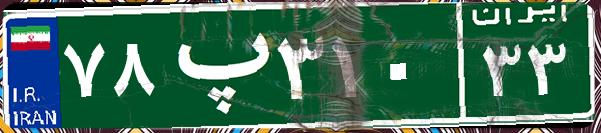0: (385, 28, 445, 110)
1: (330, 28, 385, 110)
3: (273, 28, 330, 110), (475, 38, 525, 113), (525, 38, 570, 115)
7: (57, 26, 110, 107)
8: (110, 28, 158, 105)
پ: (158, 15, 273, 115)
